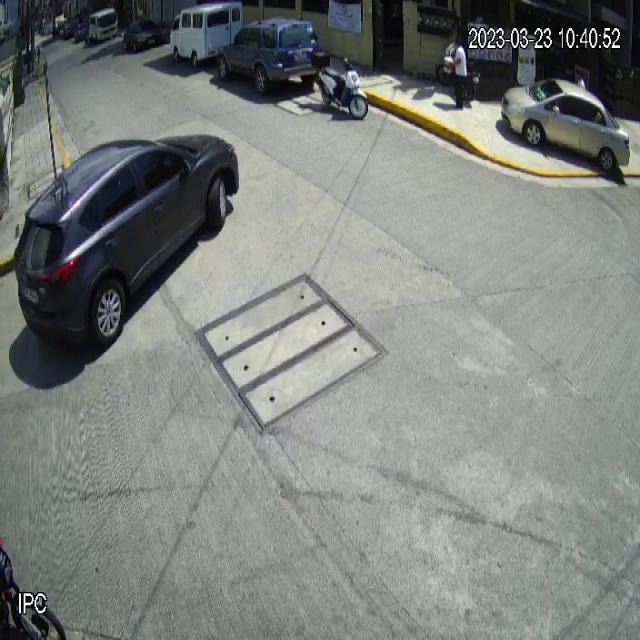Car: (12, 132, 240, 346), (501, 79, 631, 172), (216, 15, 322, 97)
Motorcycle: (312, 51, 368, 120)
Van: (169, 0, 243, 67)
